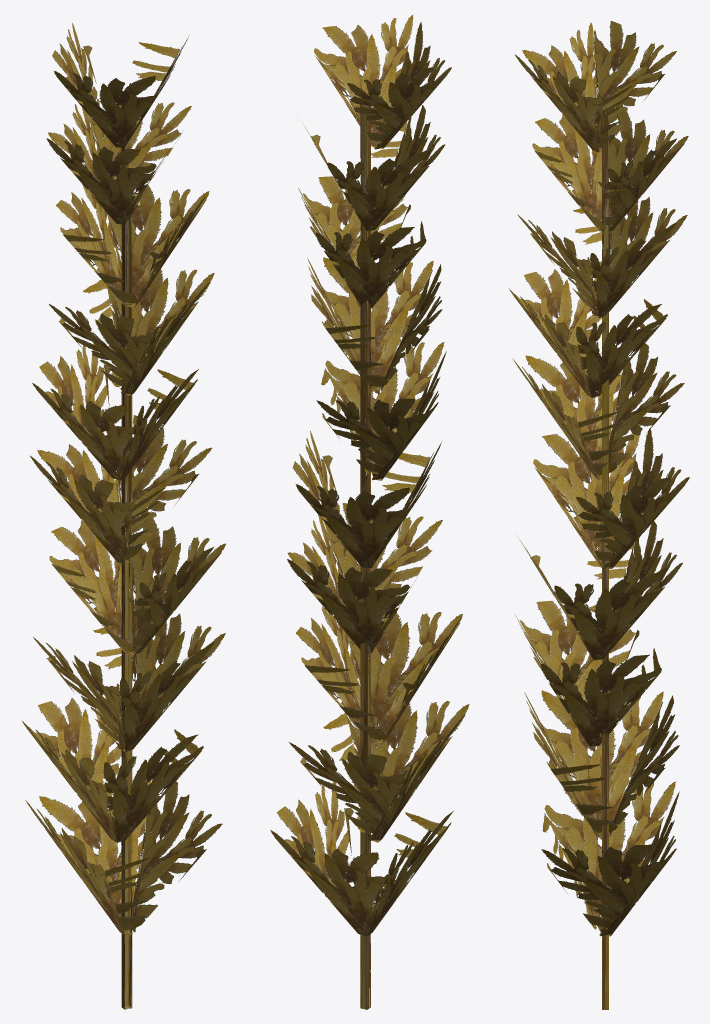
File: kelp.glb
3 renders of one model, left to right at view 1: azimuth 30°, elevation 25°; view 2: azimuth 150°, elevation 25°; view 3: azimuth 270°, elevation 25°, orthographic.
Visible parts, largest first — view 1: leaves, stem; view 2: leaves, stem; view 3: leaves, stem.
Part boxes in pixels (x1,y1,x2,y2): leaves: (22, 23, 225, 935); stem: (121, 104, 132, 1009); leaves: (270, 15, 469, 936); stem: (360, 104, 370, 1009); leaves: (509, 21, 689, 936); stem: (602, 110, 608, 1009).
Size of the model in its own units: 4.28 by 23.19 by 4.26.
1 material, 1 textured.
